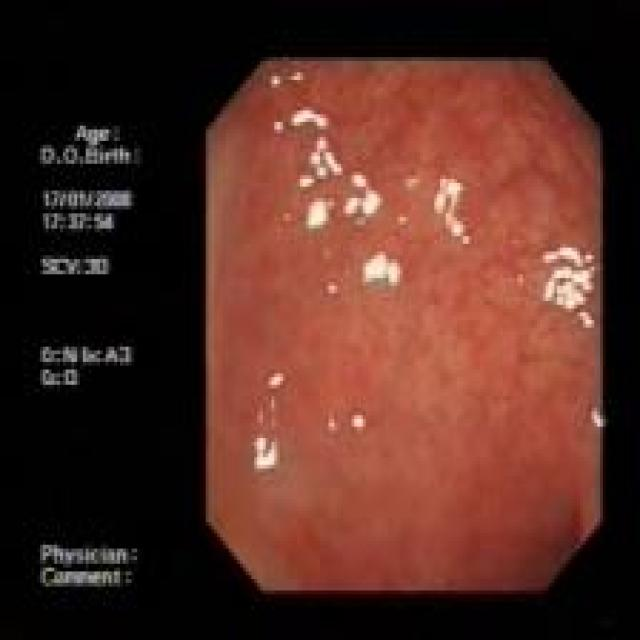color misalignment: (37, 118, 148, 587)
specularity: (537, 242, 600, 330), (429, 167, 468, 238), (294, 137, 342, 189), (343, 162, 383, 223), (358, 248, 402, 291), (299, 192, 337, 234), (289, 94, 331, 131), (251, 432, 278, 470), (348, 410, 368, 428), (590, 406, 604, 431), (268, 369, 283, 390), (273, 119, 283, 131), (270, 74, 281, 84), (291, 71, 301, 79)
